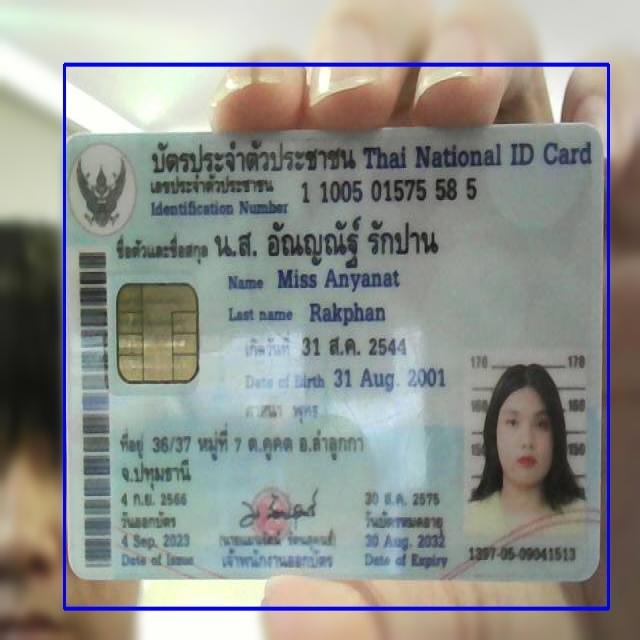Address_th: (111, 417, 379, 491)
Date_of_Birth: (330, 362, 453, 394)
Date_of_Expiry: (360, 530, 449, 554)
Date_of_Issue: (114, 530, 203, 552)
First_Name: (274, 266, 401, 296)
ID_Number: (298, 175, 482, 207)
Image: (465, 350, 588, 545)
Last_Name: (304, 297, 388, 329)
Thai_Name: (206, 213, 450, 269)
